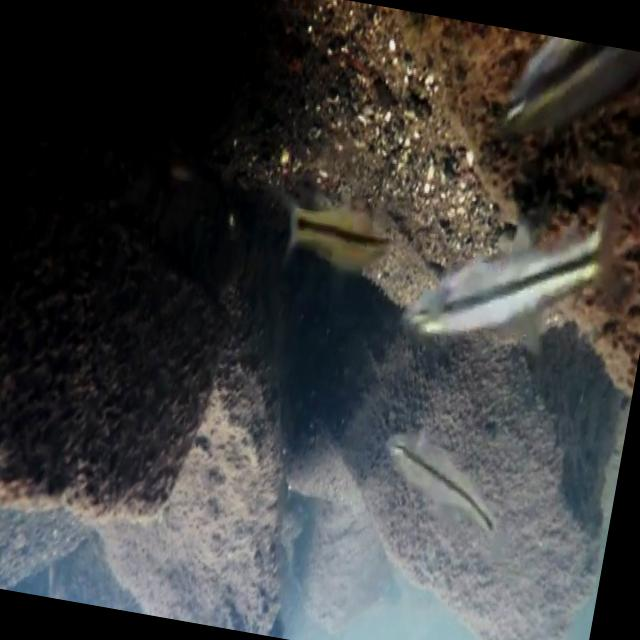Cakil Baligi: (372, 164, 638, 376), (360, 416, 533, 586)
